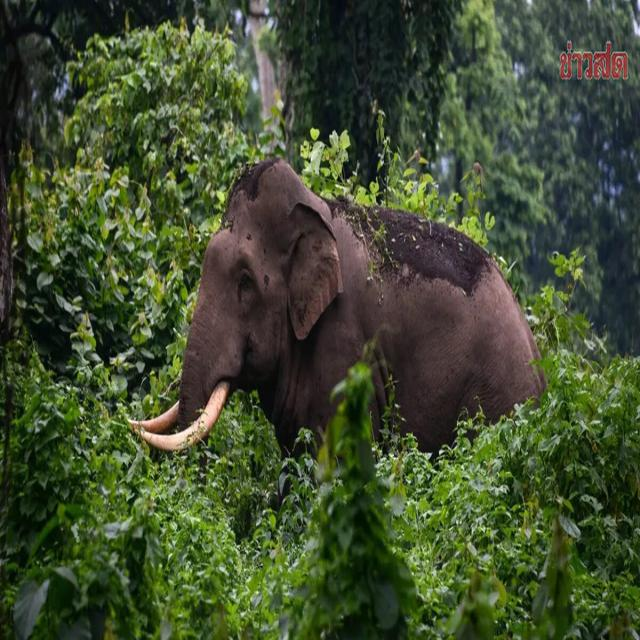Elephant: (133, 134, 560, 561)
